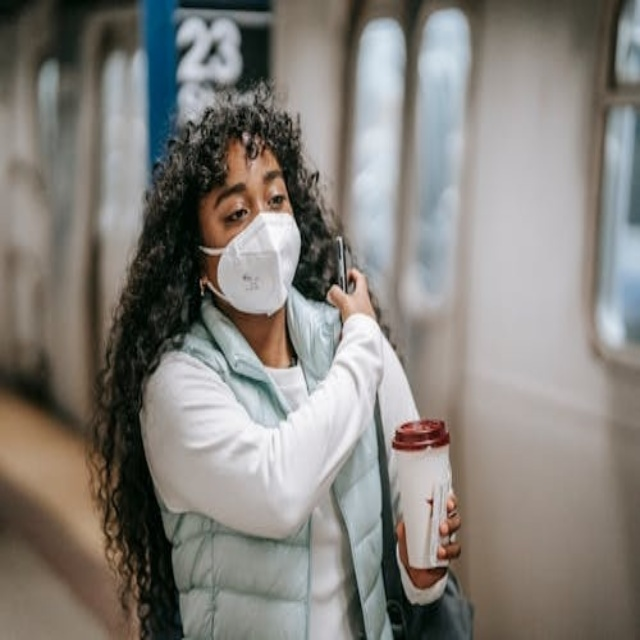Mascara: (199, 209, 302, 316)
Sin_gafas: (209, 167, 287, 238)
Sin_guantes: (399, 504, 459, 589), (324, 259, 380, 319)
